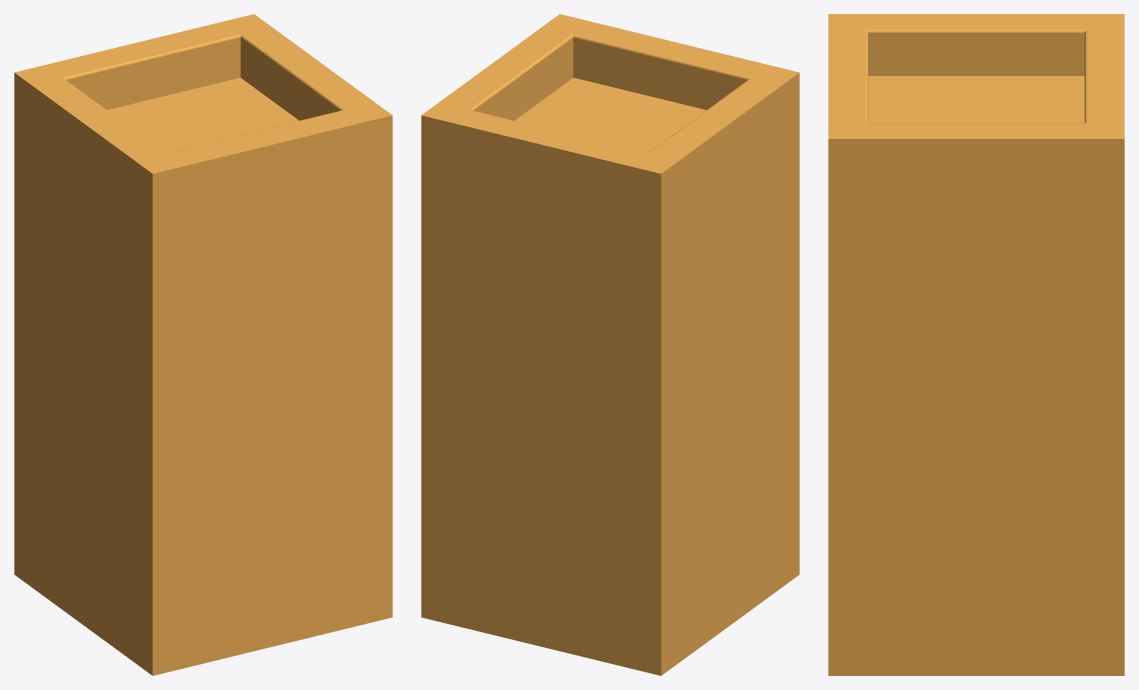
Rendered from Candle.fbx.
3 renders of one model, left to right at view 1: azimuth 30°, elevation 25°; view 2: azimuth 150°, elevation 25°; view 3: azimuth 270°, elevation 25°, orthographic. The views are drawn at different scales.
Visible parts, largest first — view 1: Cube; view 2: Cube; view 3: Cube.
Boxes of the visible parts, x1,y1,x2,y2 form: Cube: [14, 14, 392, 675]; Cube: [421, 14, 799, 675]; Cube: [828, 14, 1124, 675].
Size of the model in its own units: 100 by 200 by 100.
